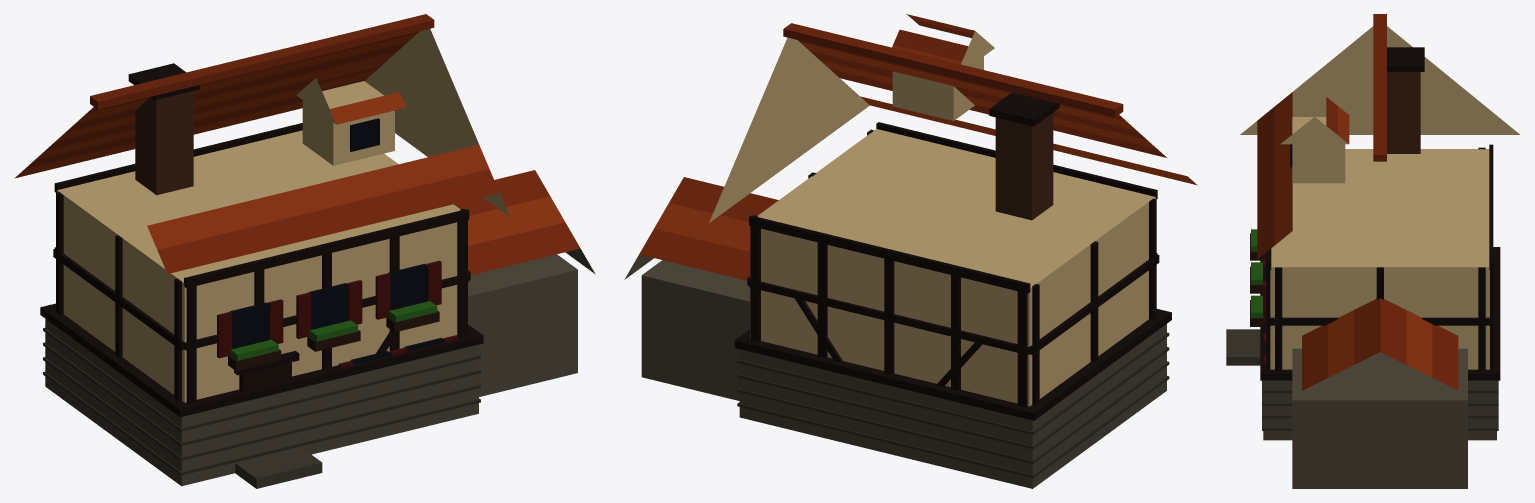
The model's file is valley-house-b.glb.
The picture shows the model from 3 angles, left to right: view 1: azimuth 30°, elevation 25°; view 2: azimuth 150°, elevation 25°; view 3: azimuth 270°, elevation 25°; orthographic projection. The views are drawn at different scales.
Visible parts, largest first — view 1: vh-b; view 2: vh-b; view 3: vh-b.
Boxes of the visible parts, x1=… form: vh-b: x1=15, y1=14, x2=595, y2=488; vh-b: x1=624, y1=14, x2=1197, y2=488; vh-b: x1=1226, y1=14, x2=1519, y2=488.
Size of the model in its own units: 10.73 by 8.05 by 7.22.
